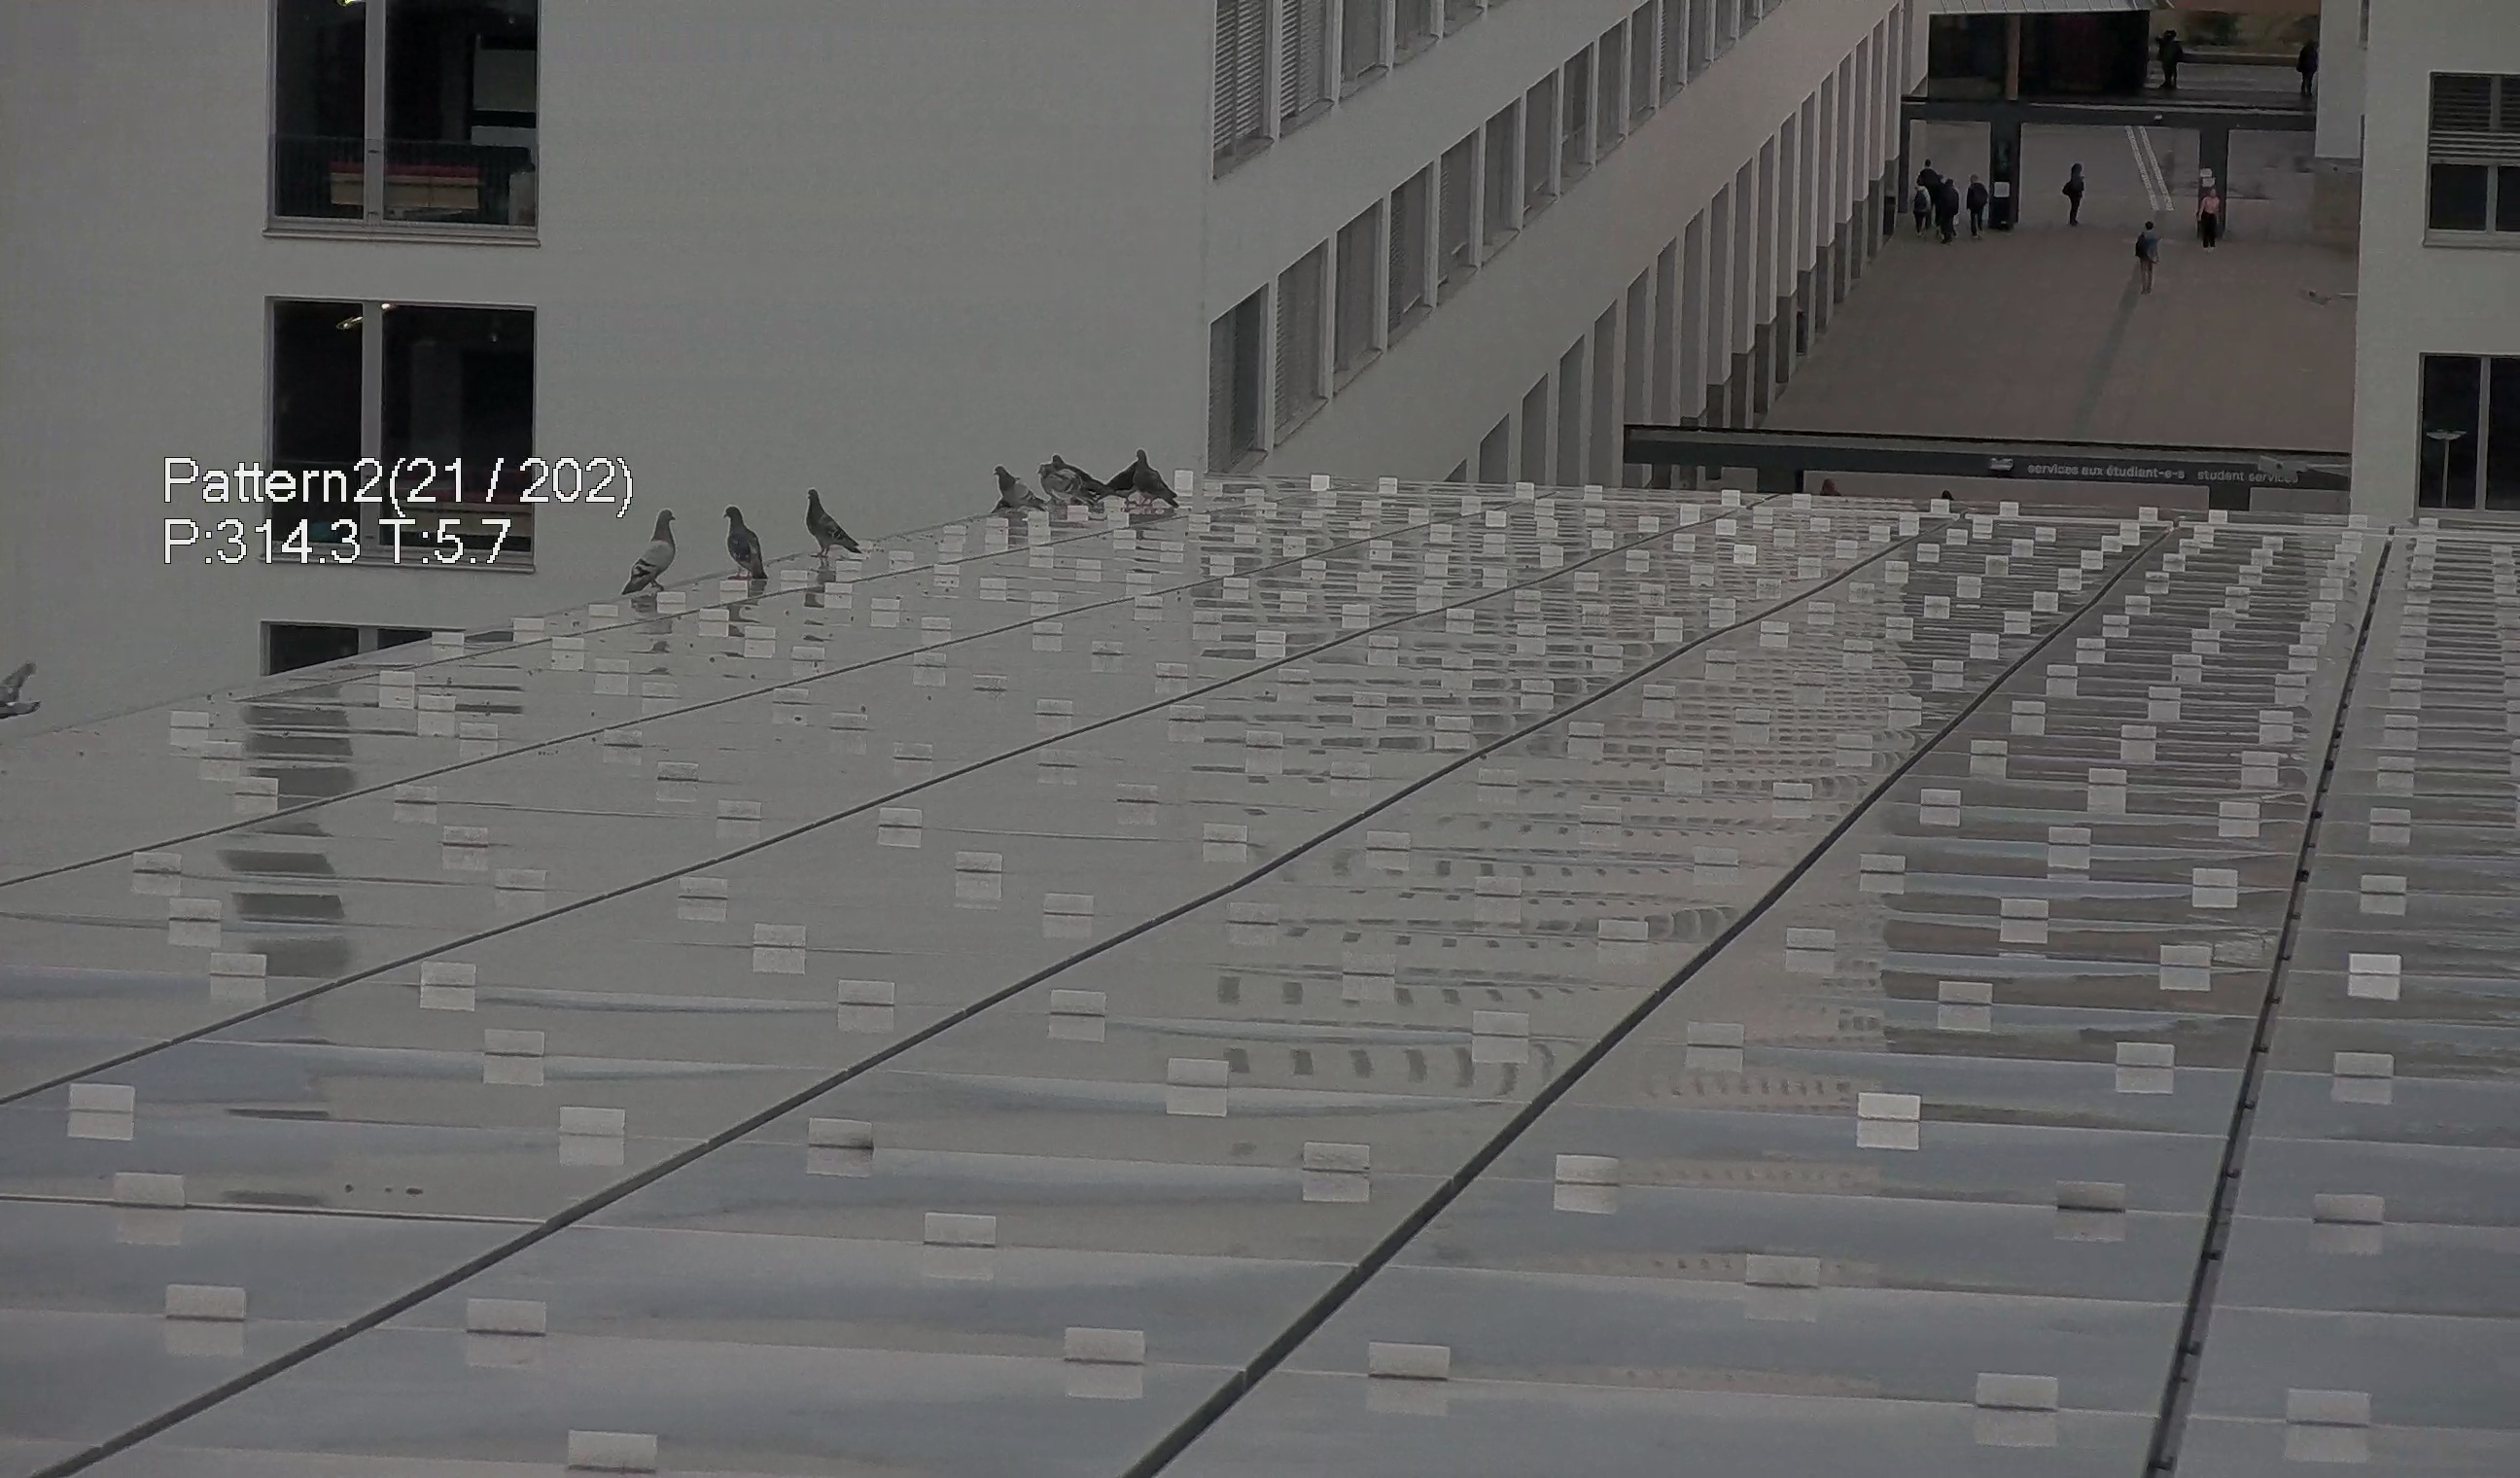Pigeon: (702, 494, 761, 595), (793, 479, 862, 563), (612, 501, 666, 600), (990, 465, 1060, 521), (1131, 445, 1182, 510), (1036, 456, 1099, 505), (1094, 456, 1136, 514)
